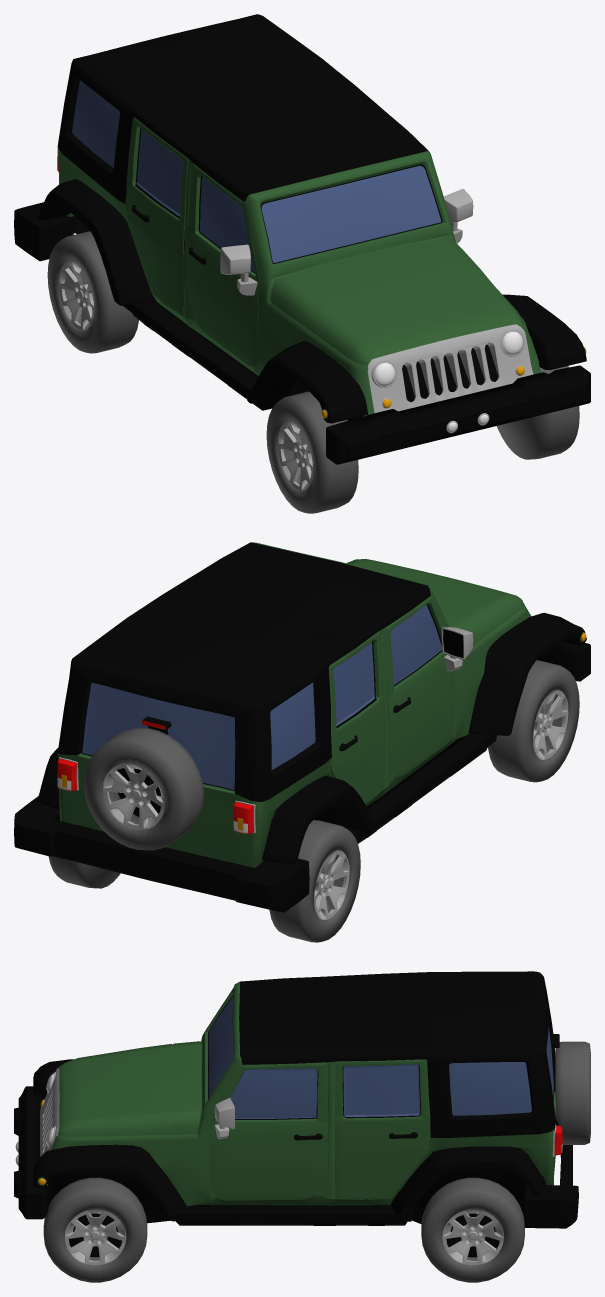
The model's file is JeepModel.fbx.
3 renders of one model, top to bottom at view 1: azimuth 30°, elevation 25°; view 2: azimuth 150°, elevation 25°; view 3: azimuth 270°, elevation 25°, orthographic. The views are drawn at different scales.
Visible parts, largest first — view 1: Body, WheelRightFront, WheelRightRear, WheelLeftFront; view 2: Body, WheelRightFront, WheelRightRear, WheelLeftRear; view 3: Body, WheelLeftRear, WheelLeftFront.
Boxes of the visible parts, x1=… form: Body: x1=14, y1=14, x2=590, y2=464; WheelRightFront: x1=266, y1=391, x2=358, y2=513; WheelRightRear: x1=47, y1=231, x2=138, y2=353; WheelLeftFront: x1=496, y1=353, x2=579, y2=459; Body: x1=14, y1=542, x2=590, y2=912; WheelRightFront: x1=488, y1=660, x2=579, y2=782; WheelRightRear: x1=269, y1=820, x2=360, y2=942; WheelLeftRear: x1=48, y1=824, x2=120, y2=888; Body: x1=14, y1=971, x2=590, y2=1228; WheelLeftRear: x1=421, y1=1177, x2=524, y2=1282; WheelLeftFront: x1=43, y1=1177, x2=147, y2=1282.
Size of what is drawn, in the model's own units: 185 by 166 by 394.
